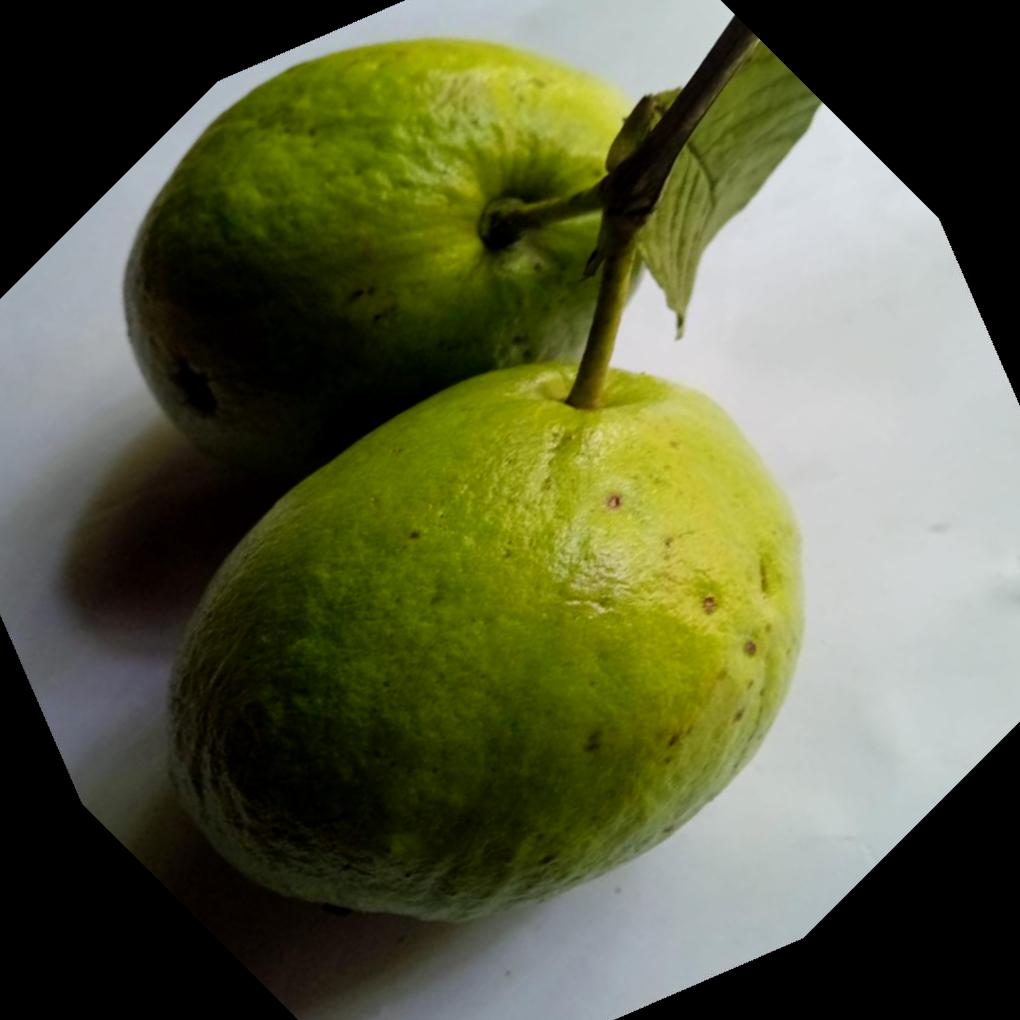FreshGuava: (122, 26, 820, 929)
